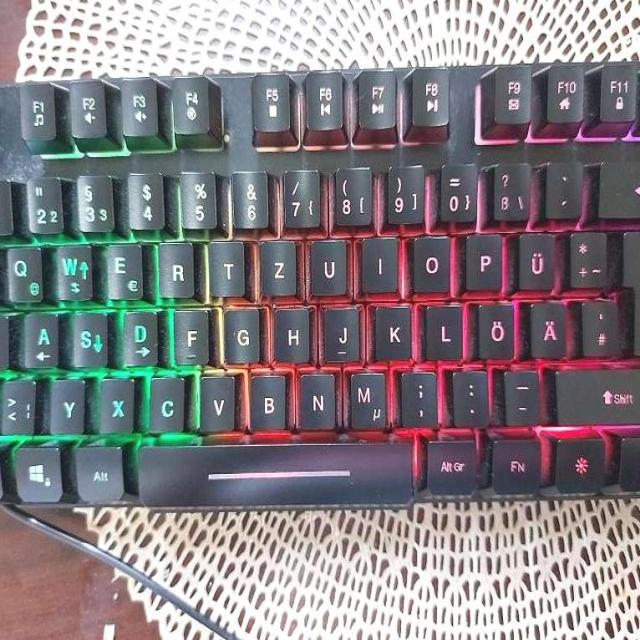0: (436, 157, 476, 223)
1: (0, 175, 12, 234)
2: (24, 173, 64, 233)
3: (72, 169, 114, 232)
4: (125, 167, 165, 230)
5: (178, 166, 217, 230)
6: (230, 165, 269, 229)
7: (280, 163, 319, 229)
8: (330, 162, 371, 226)
9: (384, 161, 424, 224)
a: (21, 307, 59, 366)
accent: (543, 156, 583, 218)
ae: (527, 294, 568, 356)
alt-left: (73, 441, 123, 500)
altgr-right: (424, 434, 477, 492)
b: (246, 367, 286, 428)
c: (146, 372, 184, 431)
comma: (397, 365, 435, 424)
d: (121, 308, 158, 368)
del: (595, 156, 640, 216)
e: (103, 239, 142, 299)
enter: (616, 226, 640, 354)
f: (171, 304, 208, 364)
g: (221, 301, 259, 361)
h: (270, 300, 308, 359)
hash: (579, 295, 618, 355)
i: (358, 230, 397, 290)
j: (320, 300, 358, 359)
k: (371, 298, 410, 358)
keyboard: (0, 50, 640, 515)
l: (422, 299, 460, 357)
less: (0, 375, 34, 433)
m: (345, 365, 385, 427)
minus: (502, 363, 540, 423)
n: (295, 366, 335, 427)
o: (409, 230, 450, 291)
oe: (475, 298, 512, 357)
p: (463, 226, 501, 289)
plus: (566, 224, 606, 287)
point: (449, 363, 486, 423)
q: (2, 242, 43, 302)
r: (155, 235, 194, 297)
s: (68, 308, 108, 366)
shift-right: (551, 359, 640, 423)
space: (128, 433, 415, 499)
ss: (488, 157, 529, 222)
t: (206, 235, 244, 295)
u: (307, 233, 345, 294)
ue: (516, 226, 556, 289)
v: (197, 369, 234, 428)
w: (52, 239, 93, 301)
x: (96, 374, 134, 431)
y: (49, 375, 85, 433)
z: (256, 233, 296, 294)
